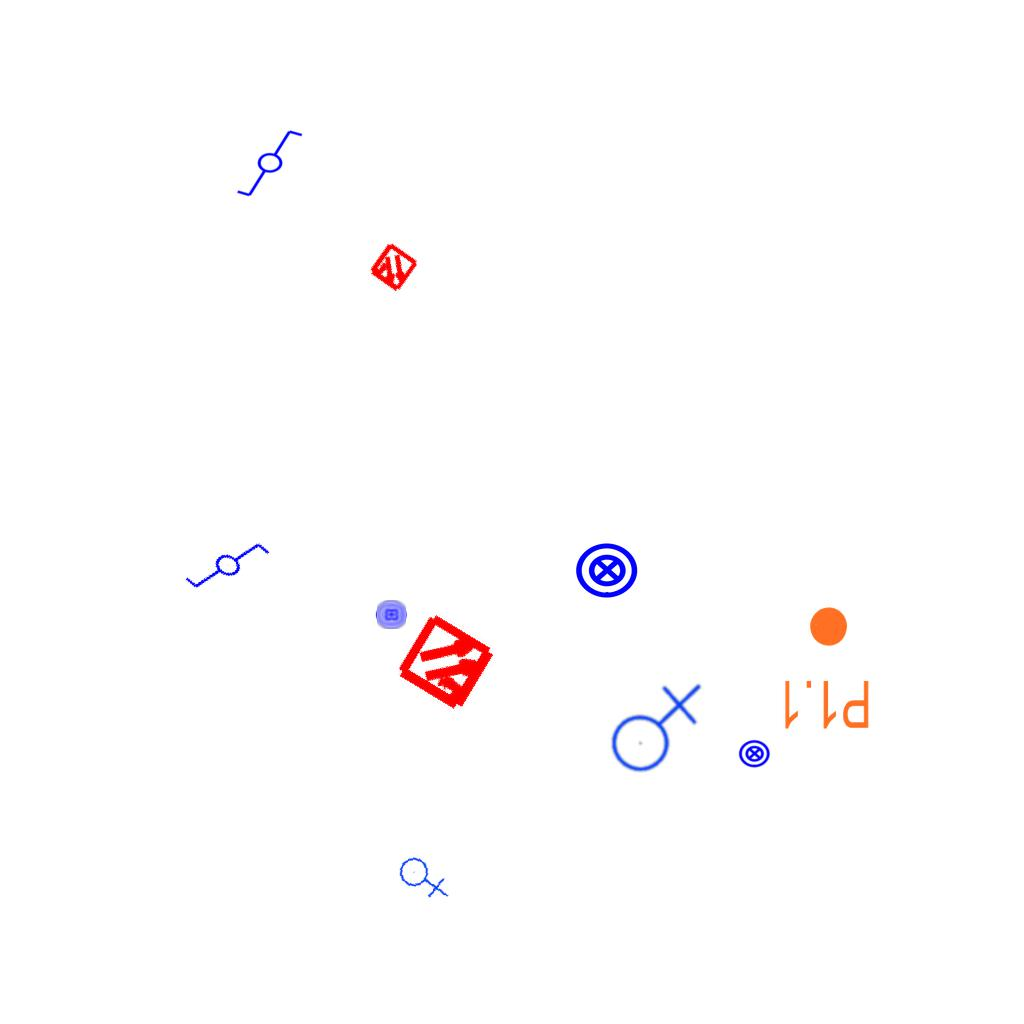Downlight_LED_Einbauleuchten_Flur: (779, 604, 872, 732)
Elektroanschluss_allgemein_230V_Geraeteanschlussdose_230V: (603, 679, 702, 773), (396, 848, 451, 905)
OT_Multisensormelder_(Kombination_RMO_WMD): (369, 585, 526, 742), (354, 229, 432, 307)
Taster_beleuchtet: (574, 537, 640, 603), (738, 737, 771, 770), (375, 598, 408, 631)
Wechselschalter: (180, 519, 282, 617), (235, 128, 313, 200)
